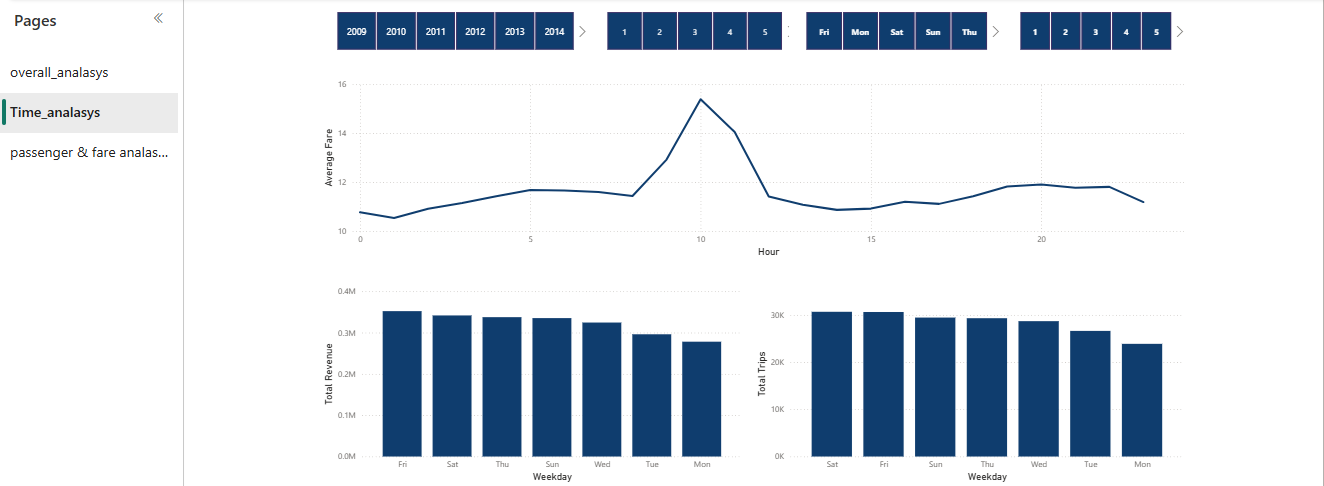

What the dashboard file says about the page in this screenshot:
{"tool":"powerbi","page":{"name":"Time_analasys","canvas":[1280,720],"ordinal":1},"visuals":[{"type":"clusteredColumnChart","fields":{"Category":["uber.Weekday"],"Y":["uber.Total Trips"]},"box":[639.4,400.3,640.8,319.7],"z":0},{"type":"lineChart","fields":{"Category":["uber.Hour"],"Y":["uber.Average Fare"]},"box":[0,95,1280.2,292.3],"z":1000},{"type":"clusteredColumnChart","fields":{"Category":["uber.Weekday"],"Y":["uber.Total Revenue"]},"box":[0,400.3,627.8,319.7],"z":2000},{"type":"slicer","fields":{"Values":["uber.Year"]},"box":[0,0,398,83.4],"z":3000},{"type":"slicer","fields":{"Values":["uber.Month"]},"box":[398,0,307.3,83.4],"z":4000},{"type":"slicer","fields":{"Values":["uber.Weekday"]},"box":[692.2,0,316.1,83.4],"z":5000},{"type":"slicer","fields":{"Values":["uber.passenger_count"]},"box":[1007.8,0,272.2,83.4],"z":6000}]}

Visuals, with their boxes on the page's 1280x720 design canvas (x1, y1, x2, y2). These are canvas units, not pixel positions in the 1324x486 screenshot, which may show the page scaled, cropped or inside an application window:
clusteredColumnChart - uber.Weekday x uber.Total Trips: rect(639, 400, 1280, 720)
lineChart - uber.Hour x uber.Average Fare: rect(0, 95, 1280, 387)
clusteredColumnChart - uber.Weekday x uber.Total Revenue: rect(0, 400, 628, 720)
slicer - uber.Year: rect(0, 0, 398, 83)
slicer - uber.Month: rect(398, 0, 705, 83)
slicer - uber.Weekday: rect(692, 0, 1008, 83)
slicer - uber.passenger_count: rect(1008, 0, 1280, 83)
